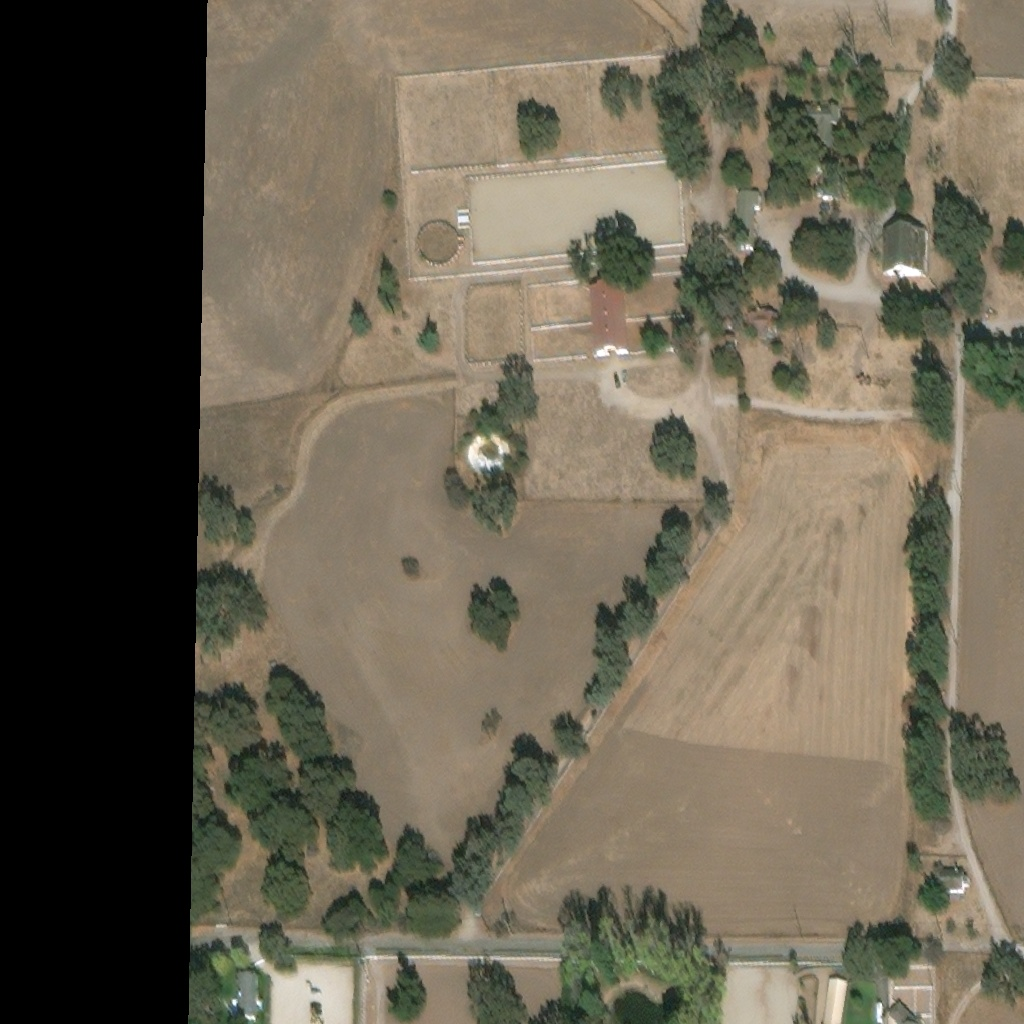0 no-damage: (588, 281, 630, 354), (782, 100, 839, 144), (882, 225, 927, 274), (734, 191, 760, 248), (819, 976, 846, 1023), (813, 157, 838, 197), (236, 971, 257, 1017), (747, 306, 777, 335), (885, 998, 919, 1023), (933, 868, 967, 889), (712, 328, 735, 355), (989, 340, 1023, 355), (841, 109, 858, 120), (667, 340, 678, 350)
